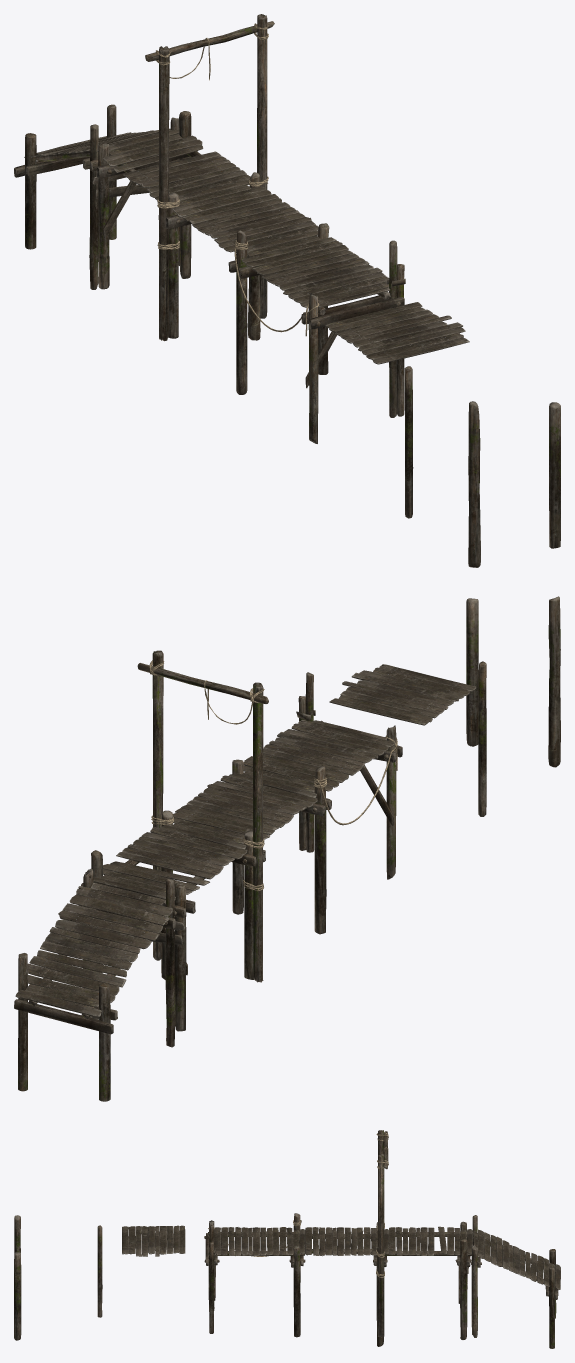
Rendered from pier.jpg-BvALqZ_y.glb.
3 renders of one model, top to bottom at view 1: azimuth 30°, elevation 25°; view 2: azimuth 150°, elevation 25°; view 3: azimuth 270°, elevation 25°, orthographic. The views are drawn at different scales.
Parts seen in each view (by area): view 1: modular_wooden_pier_section_01, modular_wooden_pier_section_03, modular_wooden_pier_section_02, modular_wooden_pier_section_05, modular_wooden_pier_section_04, modular_wooden_pier_planks, modular_wooden_pier_poles; view 2: modular_wooden_pier_section_04, modular_wooden_pier_section_01, modular_wooden_pier_section_03, modular_wooden_pier_section_02, modular_wooden_pier_section_05, modular_wooden_pier_poles, modular_wooden_pier_planks; view 3: modular_wooden_pier_section_01, modular_wooden_pier_section_04, modular_wooden_pier_section_03, modular_wooden_pier_section_02, modular_wooden_pier_planks, modular_wooden_pier_section_05, modular_wooden_pier_poles.
Part boxes in pixels (x1,y1,x2,y2): modular_wooden_pier_section_01: (228, 223, 405, 443); modular_wooden_pier_section_03: (89, 111, 250, 289); modular_wooden_pier_section_02: (158, 172, 318, 340); modular_wooden_pier_section_05: (145, 14, 274, 341); modular_wooden_pier_section_04: (14, 104, 179, 289); modular_wooden_pier_planks: (325, 302, 469, 364); modular_wooden_pier_poles: (404, 366, 560, 567); modular_wooden_pier_section_04: (14, 868, 175, 1101); modular_wooden_pier_section_01: (229, 672, 402, 934); modular_wooden_pier_section_03: (81, 827, 247, 1031); modular_wooden_pier_section_02: (160, 775, 317, 979); modular_wooden_pier_section_05: (137, 650, 268, 982); modular_wooden_pier_poles: (466, 596, 560, 816); modular_wooden_pier_planks: (329, 664, 476, 725); modular_wooden_pier_section_01: (204, 1213, 305, 1337); modular_wooden_pier_section_04: (471, 1215, 560, 1348); modular_wooden_pier_section_03: (376, 1221, 473, 1339); modular_wooden_pier_section_02: (292, 1222, 389, 1346); modular_wooden_pier_planks: (122, 1225, 185, 1256); modular_wooden_pier_section_05: (376, 1130, 388, 1337); modular_wooden_pier_poles: (14, 1215, 102, 1340).
Size of the model in its own units: 3.09 by 7.51 by 19.03.
Materials: 2 (2 with a texture image).
